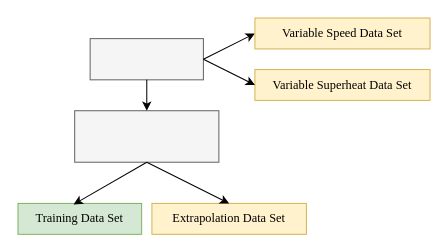
This 448x252 diagram has some shape labels left out. Each missing label, with the centre of its shape:
Baseline Data Set ΔT super = constant frequency = constant: point (146, 136)
Full Data Set: point (146, 59)
